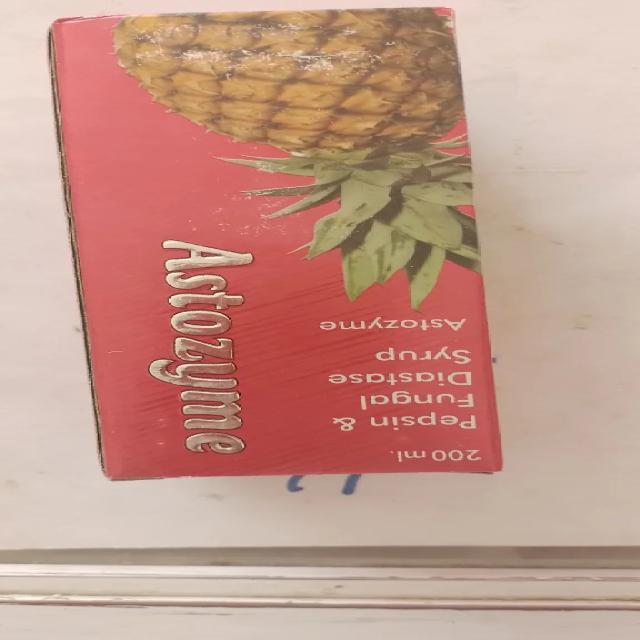drug-name: (147, 238, 255, 457)
